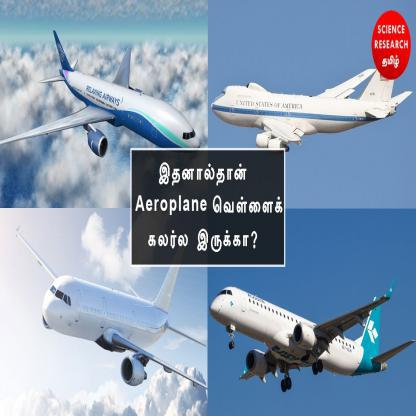CIV_Plane: (10, 223, 207, 394), (0, 26, 201, 162), (207, 278, 414, 400), (208, 60, 410, 154)
